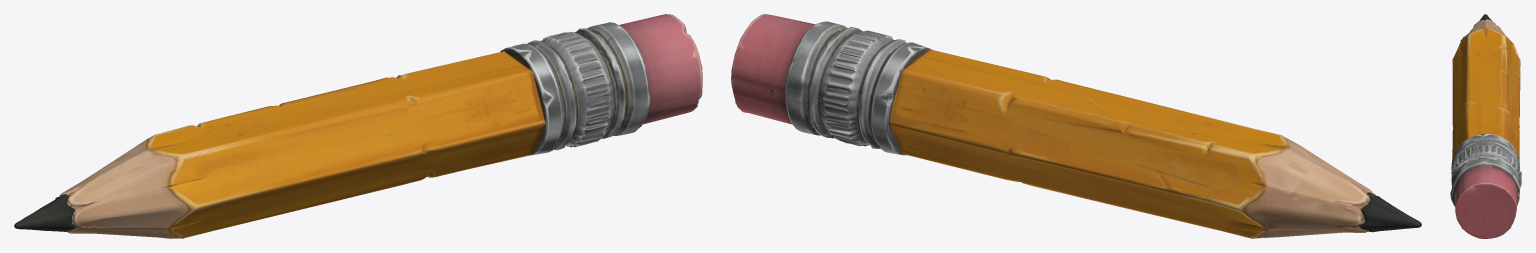
The model's file is pencil.glb.
3 renders of one model, left to right at view 1: azimuth 30°, elevation 25°; view 2: azimuth 150°, elevation 25°; view 3: azimuth 270°, elevation 25°, orthographic. The views are drawn at different scales.
Bounding box in the file's own units: 0.9497 × 0.1416 × 0.1455.
1 material, 1 textured.
